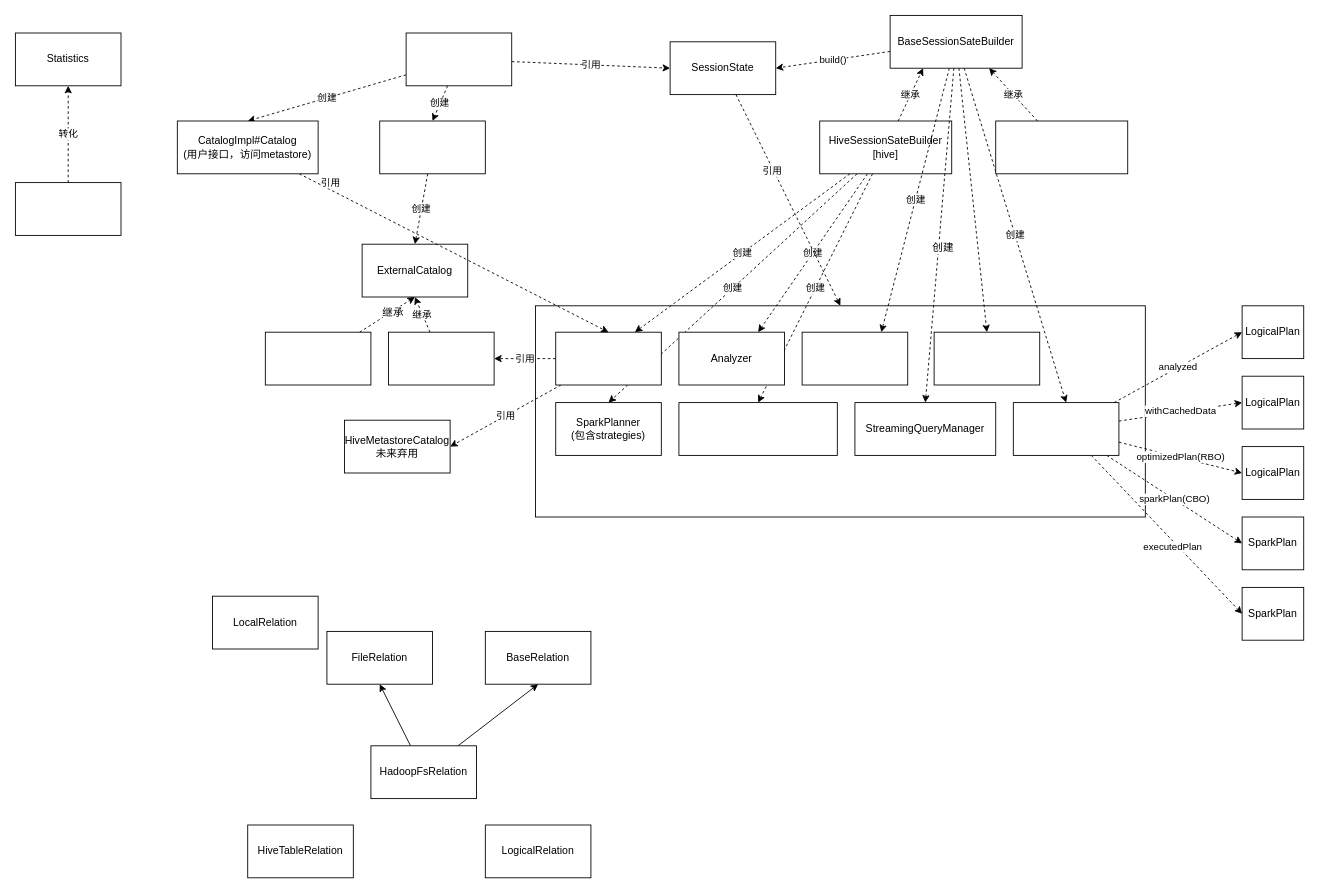
The diagram is 1319 pixels wide and 893 high, and some of its shapes have lost their labels. The box of each missing label's shape, as (x1, y1, x2, y2) in pixels:
CatalogStatistics （与metastore交互）: (15, 182, 121, 235)
HiveExternalCatalog: (388, 331, 494, 385)
HiveSessionCatalog #SessionCatalog: (555, 331, 661, 385)
HiveSessionResourceLoader: (678, 402, 837, 455)
InMemoryCatalog: (264, 331, 371, 385)
QueryExecution: (1012, 402, 1119, 455)
SessionSateBuilder [in-memory]: (995, 120, 1128, 174)
SharedState: (379, 120, 485, 174)
SparkOptimizer: (933, 331, 1040, 385)
SparkSession: (405, 32, 512, 86)
SparkSqlParser: (801, 331, 908, 385)
